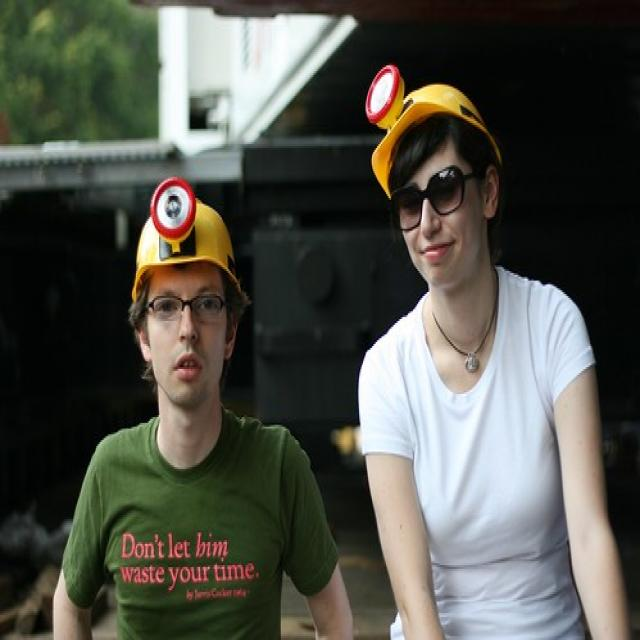Safety-Helmet: (368, 71, 507, 194), (127, 177, 249, 300)
